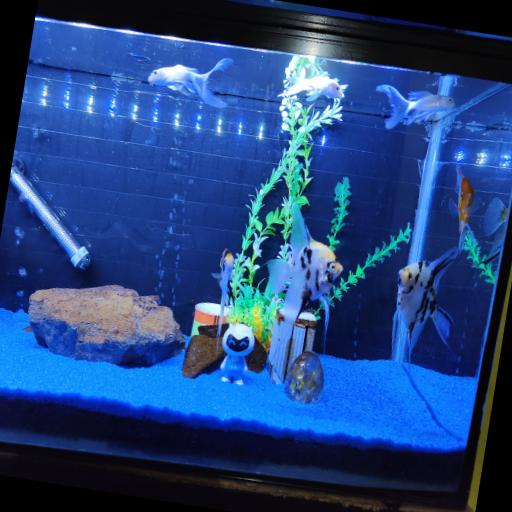Fish: (266, 204, 342, 351), (391, 248, 455, 363), (147, 58, 232, 108), (375, 85, 454, 129), (211, 249, 233, 355), (449, 165, 473, 259), (278, 76, 346, 101), (483, 198, 507, 261)
